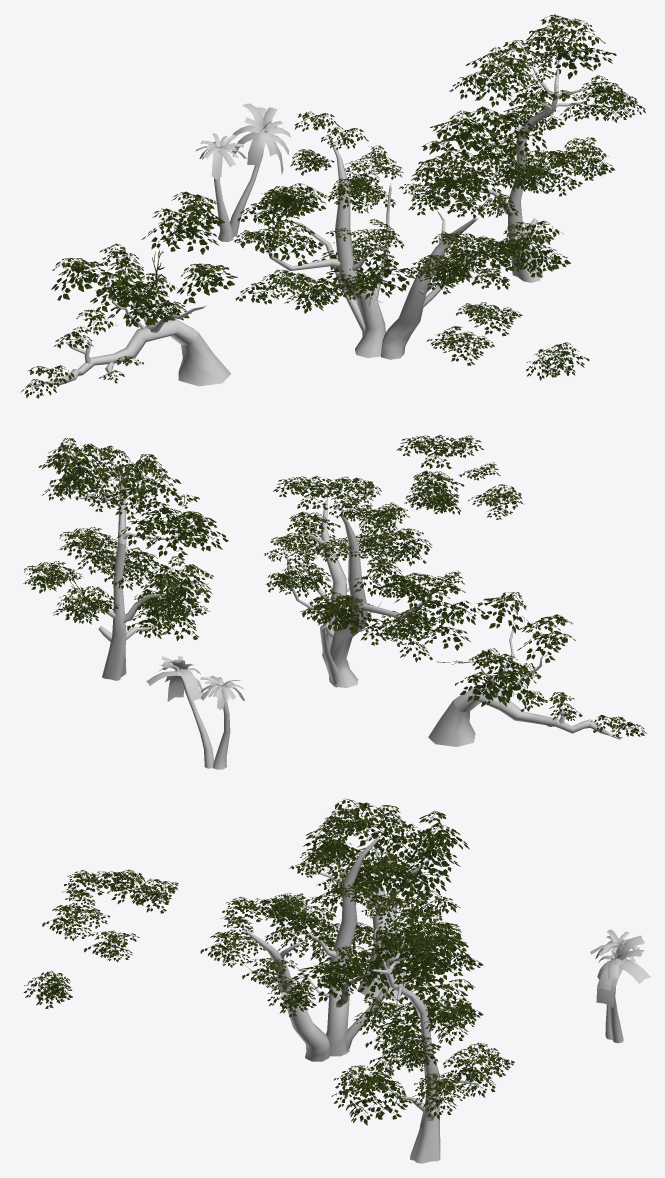
File: Dxlc_011.FBX
3 renders of one model, top to bottom at view 1: azimuth 30°, elevation 25°; view 2: azimuth 150°, elevation 25°; view 3: azimuth 270°, elevation 25°, orthographic. The views are drawn at different scales.
Parts seen in each view (by area): view 1: xkez_hc_huyang_003_1, xkez_hc_huyang_002_1, xkez_hc_huyang_001_1, xkez_hc_huyang_002_ncl1_1, xkez_hc_huyang_001, xkez_hc_huyang_002_2, xkez_hc_huyang_003, xkez_hc_yeshu_002, xkez_hc_huyang_002_3, xkez_hc_yeshu_004_ncl1_1, xkez_hc_yeshu_003, xkez_hc_yeshu_001; view 2: xkez_hc_huyang_003_1, xkez_hc_huyang_002_1, xkez_hc_huyang_001_1, xkez_hc_huyang_002_ncl1_1, xkez_hc_huyang_002_2, xkez_hc_huyang_001, xkez_hc_huyang_003, xkez_hc_yeshu_002, xkez_hc_yeshu_004_ncl1_1, xkez_hc_yeshu_001, xkez_hc_yeshu_003, xkez_hc_huyang_002_3; view 3: xkez_hc_huyang_003_1, xkez_hc_huyang_002_1, xkez_hc_huyang_002_ncl1_1, xkez_hc_huyang_001_1, xkez_hc_huyang_002_2, xkez_hc_huyang_003, xkez_hc_yeshu_002, xkez_hc_huyang_001, xkez_hc_huyang_002_3.
Part boxes in pixels (x1=…): xkez_hc_huyang_003_1: x1=411, y1=14, x2=645, y2=277; xkez_hc_huyang_002_1: x1=234, y1=111, x2=499, y2=313; xkez_hc_huyang_001_1: x1=20, y1=191, x2=237, y2=398; xkez_hc_huyang_002_ncl1_1: x1=264, y1=134, x2=481, y2=359; xkez_hc_huyang_001: x1=32, y1=258, x2=231, y2=387; xkez_hc_huyang_002_2: x1=423, y1=237, x2=523, y2=365; xkez_hc_huyang_003: x1=450, y1=49, x2=596, y2=282; xkez_hc_yeshu_002: x1=232, y1=103, x2=290, y2=174; xkez_hc_huyang_002_3: x1=526, y1=342, x2=589, y2=380; xkez_hc_yeshu_004_ncl1_1: x1=195, y1=133, x2=247, y2=179; xkez_hc_yeshu_003: x1=214, y1=178, x2=233, y2=241; xkez_hc_yeshu_001: x1=230, y1=129, x2=264, y2=237; xkez_hc_huyang_003_1: x1=23, y1=438, x2=228, y2=640; xkez_hc_huyang_002_1: x1=264, y1=475, x2=464, y2=662; xkez_hc_huyang_001_1: x1=390, y1=583, x2=647, y2=737; xkez_hc_huyang_002_ncl1_1: x1=286, y1=498, x2=435, y2=687; xkez_hc_huyang_002_2: x1=396, y1=434, x2=523, y2=519; xkez_hc_huyang_001: x1=428, y1=624, x2=622, y2=746; xkez_hc_huyang_003: x1=66, y1=461, x2=209, y2=680; xkez_hc_yeshu_002: x1=146, y1=656, x2=203, y2=701; xkez_hc_yeshu_004_ncl1_1: x1=200, y1=675, x2=244, y2=709; xkez_hc_yeshu_001: x1=181, y1=669, x2=213, y2=768; xkez_hc_yeshu_003: x1=213, y1=699, x2=230, y2=769; xkez_hc_huyang_002_3: x1=405, y1=484, x2=460, y2=514; xkez_hc_huyang_003_1: x1=326, y1=908, x2=514, y2=1125; xkez_hc_huyang_002_1: x1=200, y1=805, x2=460, y2=1016; xkez_hc_huyang_002_ncl1_1: x1=244, y1=835, x2=430, y2=1061; xkez_hc_huyang_001_1: x1=302, y1=798, x2=469, y2=904; xkez_hc_huyang_002_2: x1=42, y1=869, x2=178, y2=961; xkez_hc_huyang_003: x1=363, y1=936, x2=478, y2=1163; xkez_hc_yeshu_002: x1=596, y1=935, x2=650, y2=1007; xkez_hc_huyang_001: x1=313, y1=831, x2=433, y2=998; xkez_hc_huyang_002_3: x1=23, y1=970, x2=72, y2=1008.
Bounding box in the file's own units: 3543 × 3035 × 1291.
